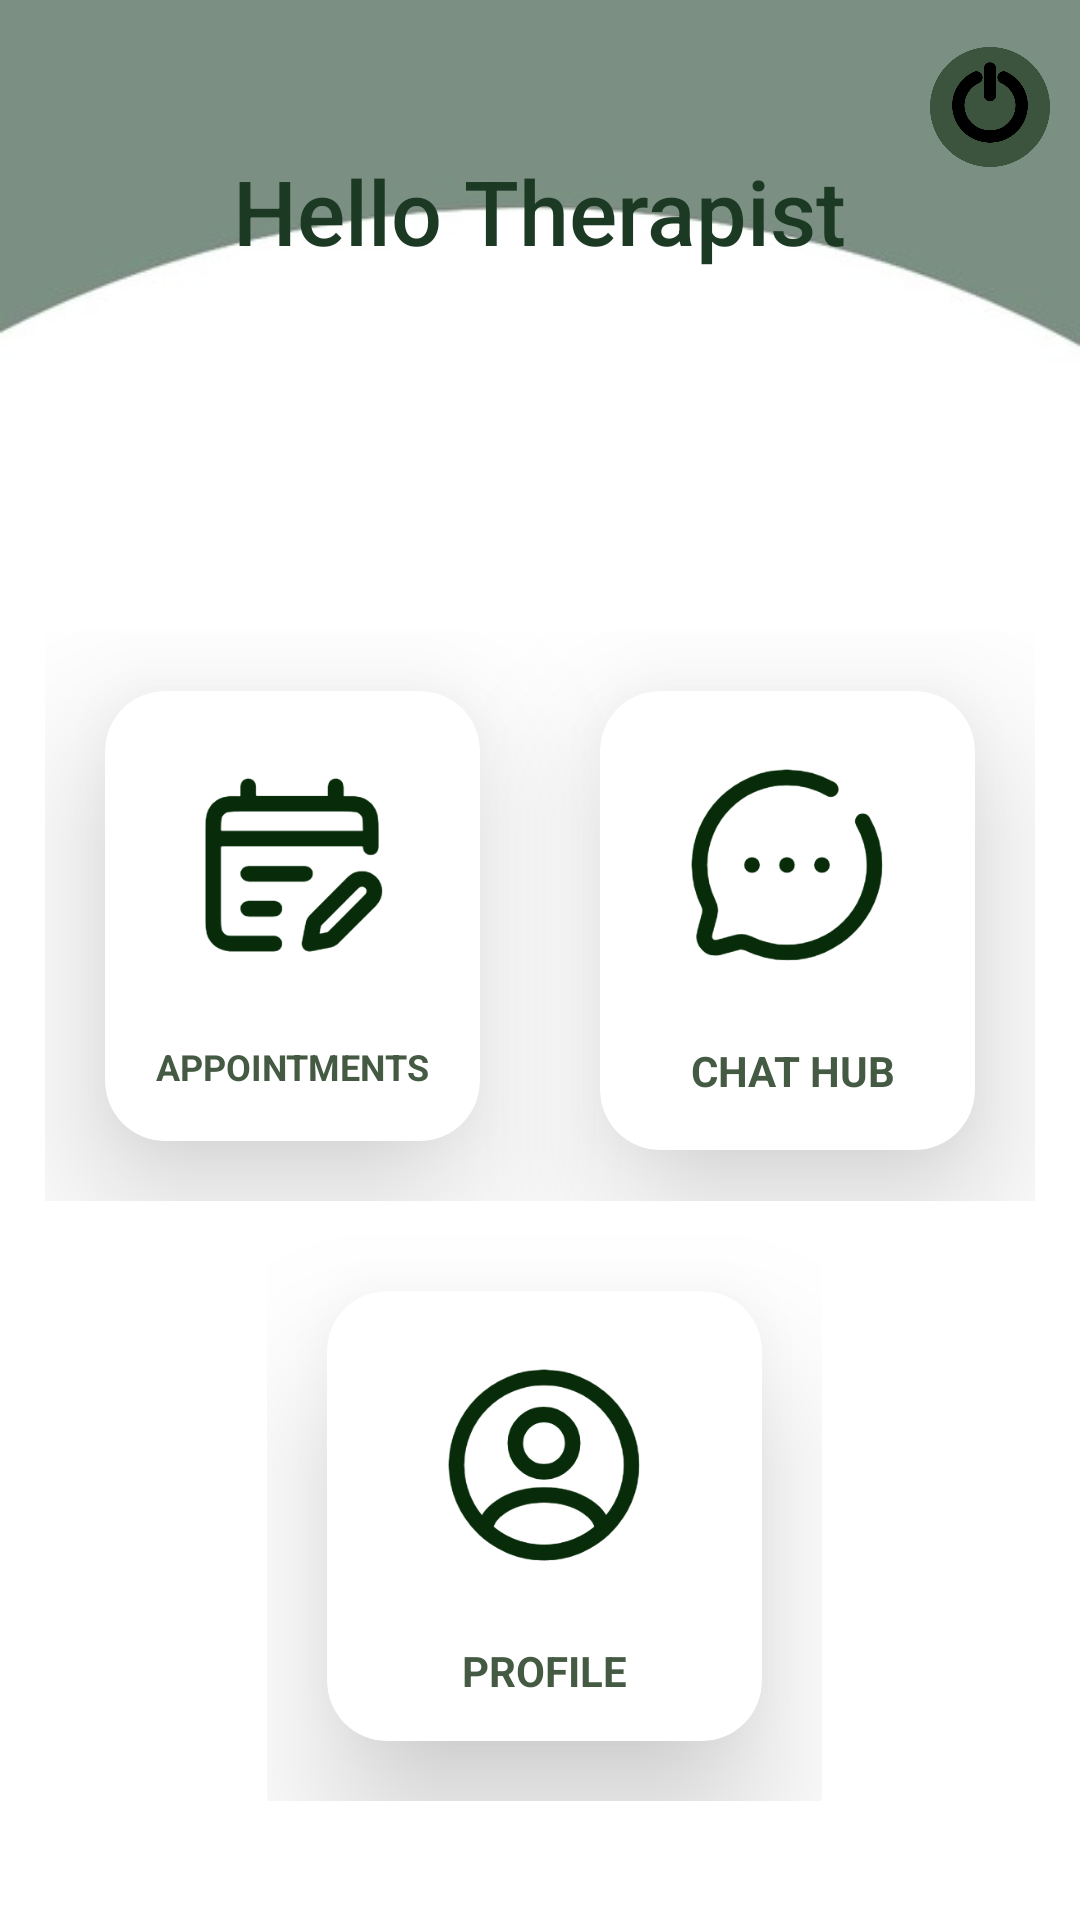

Named icons in this screenshot (1080 x 1920) and their centers, point (x, y):
cal: point (294, 865)
